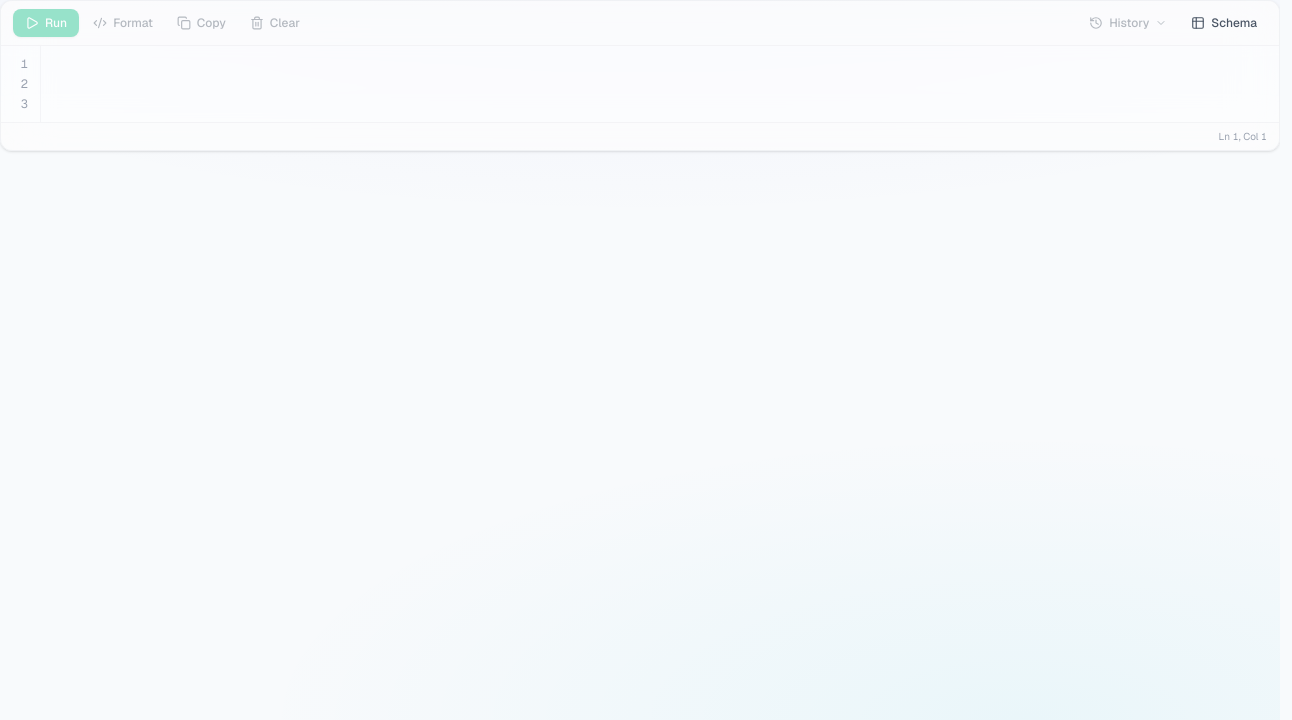
Test: SQLEditor › toggles the schema panel and inserts a column reference
Click the button "Schema". click: {"x": 1224, "y": 23}
box: [1181,9,1267,37]
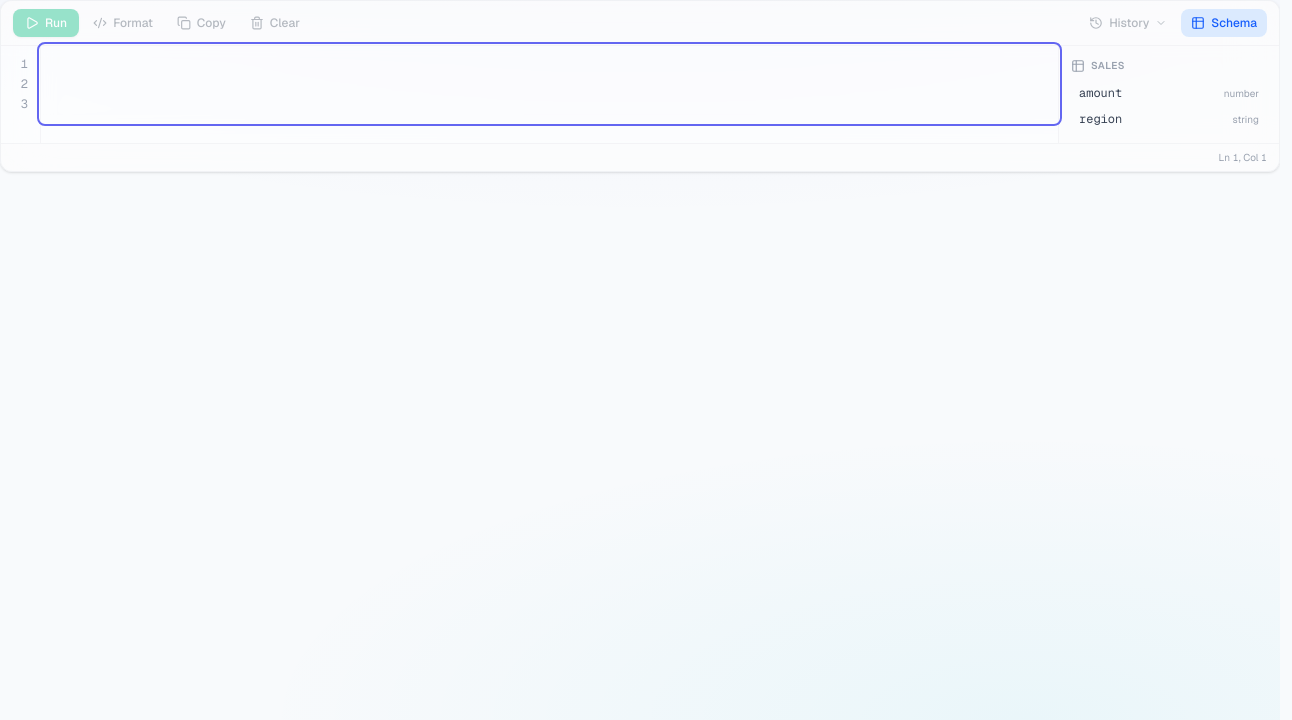
Expected: the heading "sales" is shown, [1091,58,1125,73]
Click the button titled "Insert \"amount\"". click: {"x": 1169, "y": 93}
box: [1071,81,1267,105]
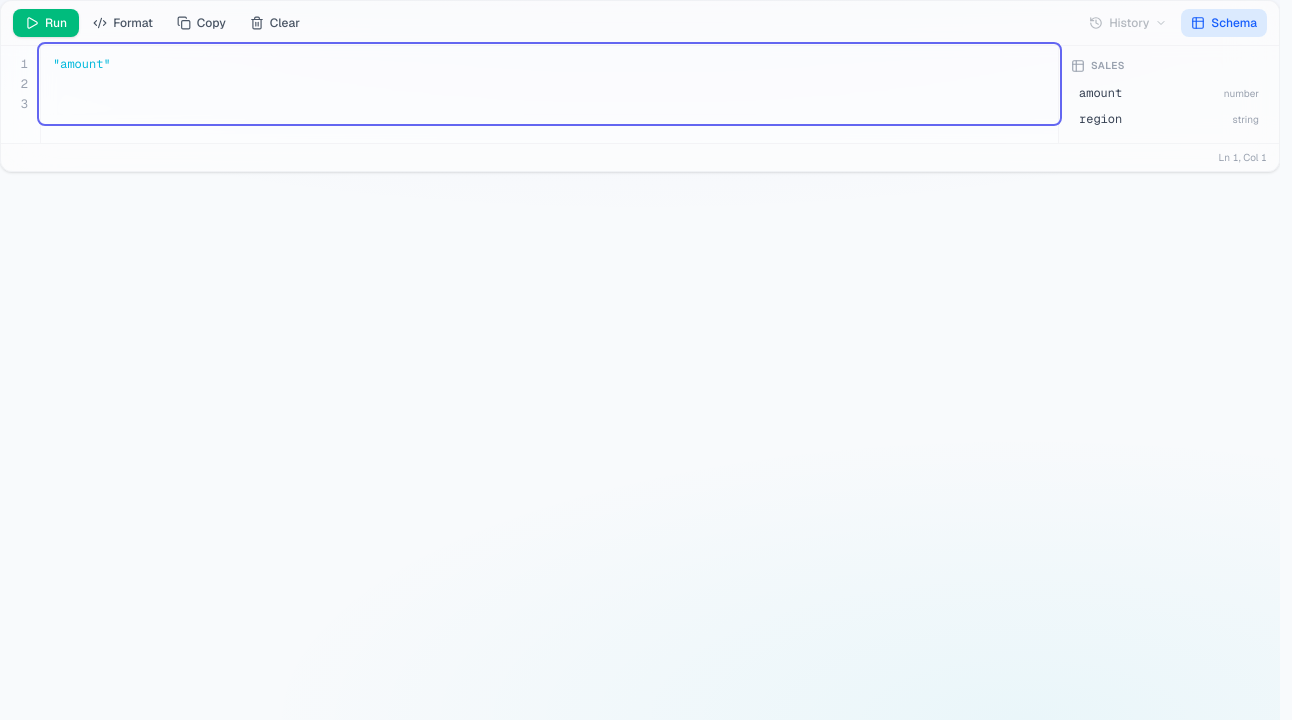
Expected: the text box with placeholder "Write your SQL query here..." holds "\"amount\"", [41,46,1058,122]
